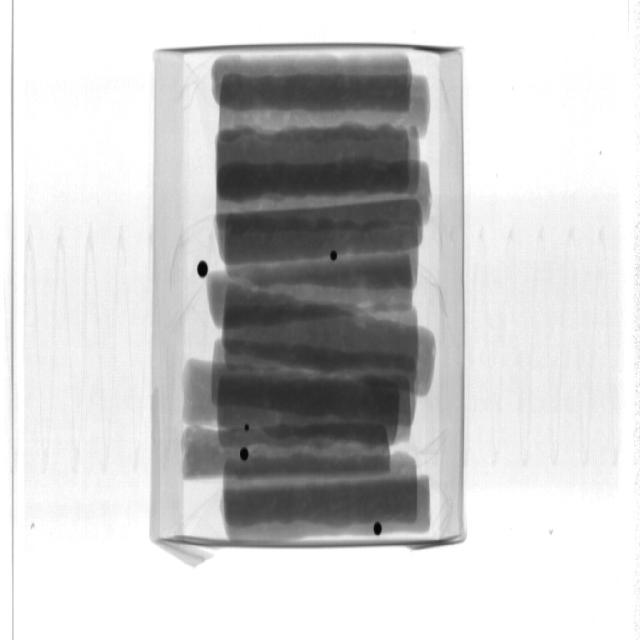ym: (198, 262, 209, 279), (373, 522, 383, 537), (240, 449, 250, 462), (331, 252, 338, 263), (245, 425, 252, 431)
